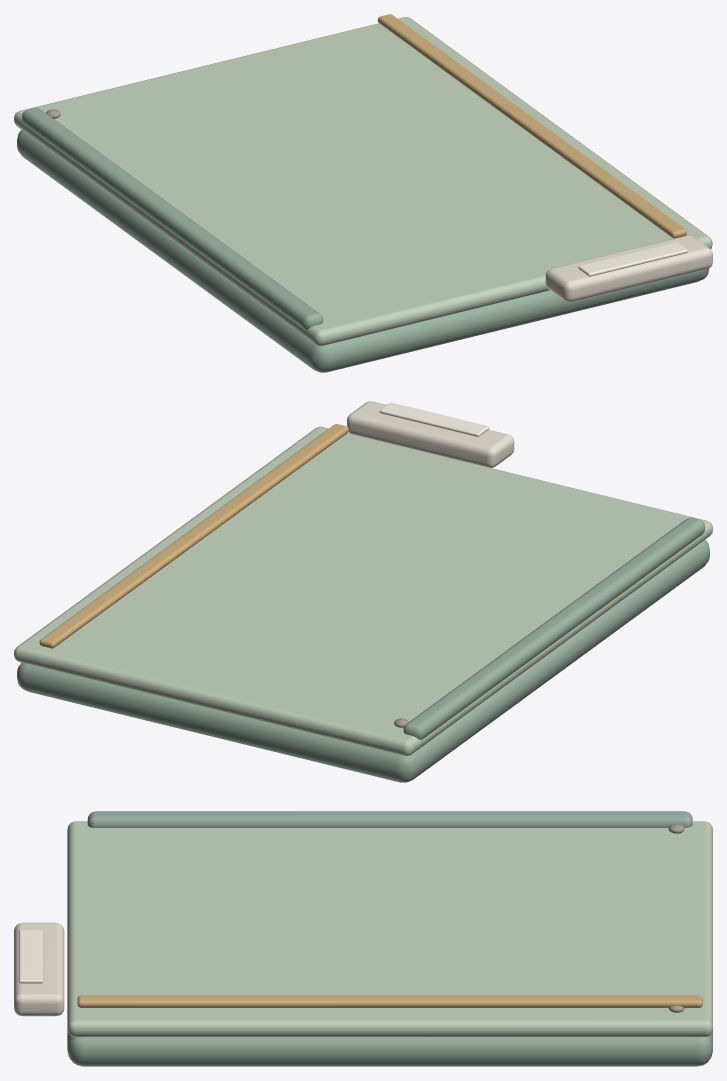
Rendered from file_folder.glb.
3 views of the same model, one above another, from view 1: azimuth 30°, elevation 25°; view 2: azimuth 150°, elevation 25°; view 3: azimuth 270°, elevation 25° (orthographic). The views are drawn at different scales.
Parts seen in each view (by area): view 1: Folder cover, Folder back, Spine strip, Elastic band, Raised index tab, Tab label; view 2: Folder cover, Folder back, Spine strip, Elastic band, Raised index tab, Tab label; view 3: Folder cover, Folder back, Spine strip, Elastic band, Raised index tab, Tab label.
Part boxes in pixels (x1,y1,x2,y2): Folder cover: (14,17,712,346); Folder back: (17,130,709,372); Spine strip: (22,108,323,329); Elastic band: (377,14,686,238); Raised index tab: (545,235,712,302); Tab label: (578,242,687,276); Folder cover: (14,426,712,756); Folder back: (17,540,709,782); Spine strip: (403,517,704,739); Elastic band: (39,424,348,648); Raised index tab: (347,401,514,467); Tab label: (379,402,489,436); Folder cover: (67,821,712,1037); Folder back: (67,1029,712,1066); Spine strip: (87,811,692,827); Elastic band: (77,995,702,1007); Raised index tab: (14,922,64,1016); Tab label: (19,930,43,983).
Bounding box in the file's own units: 0.241 × 0.036 × 0.3465.
